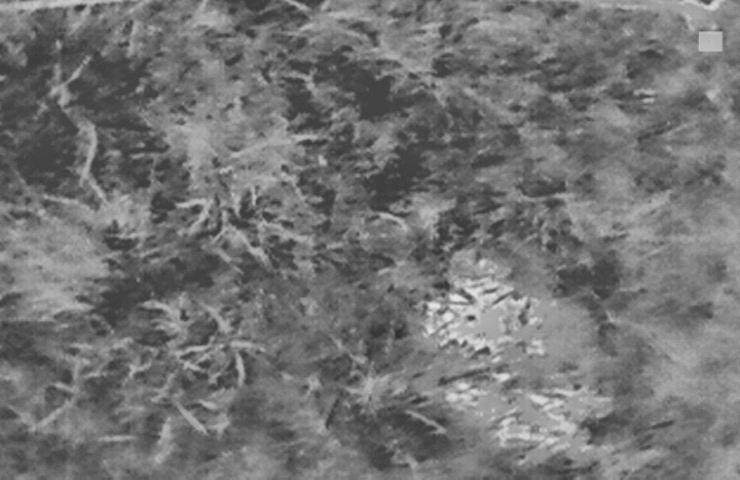landmines: (425, 271, 553, 367)
